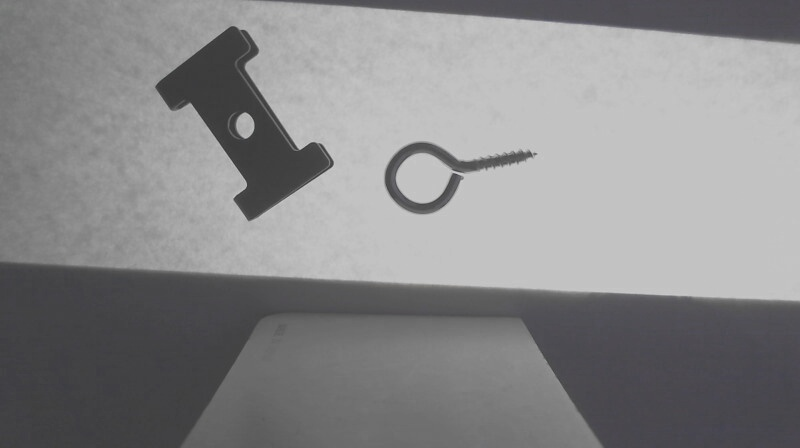O001: (381, 140, 540, 216)
O002: (151, 24, 334, 222)
